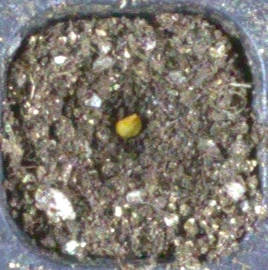chilli seed: (115, 113, 142, 137)
